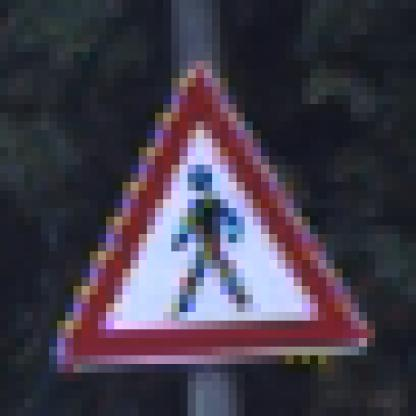crosswalk: (46, 63, 374, 376)
